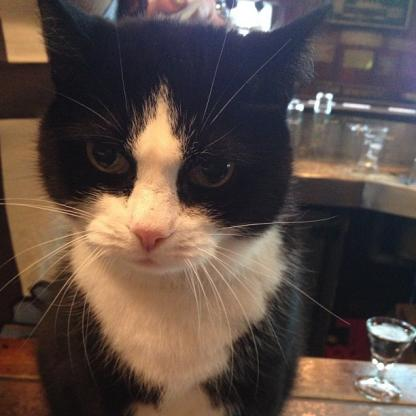Target: (25, 0, 334, 416)
